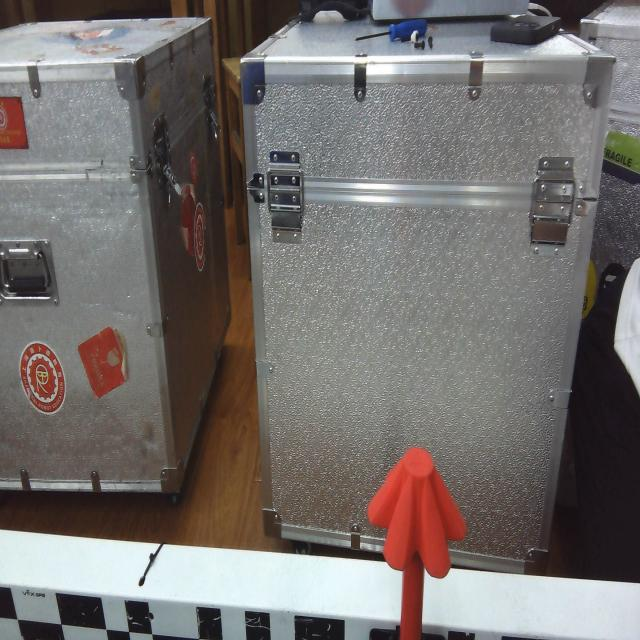zred-Stake-Head: (367, 446, 467, 578)
